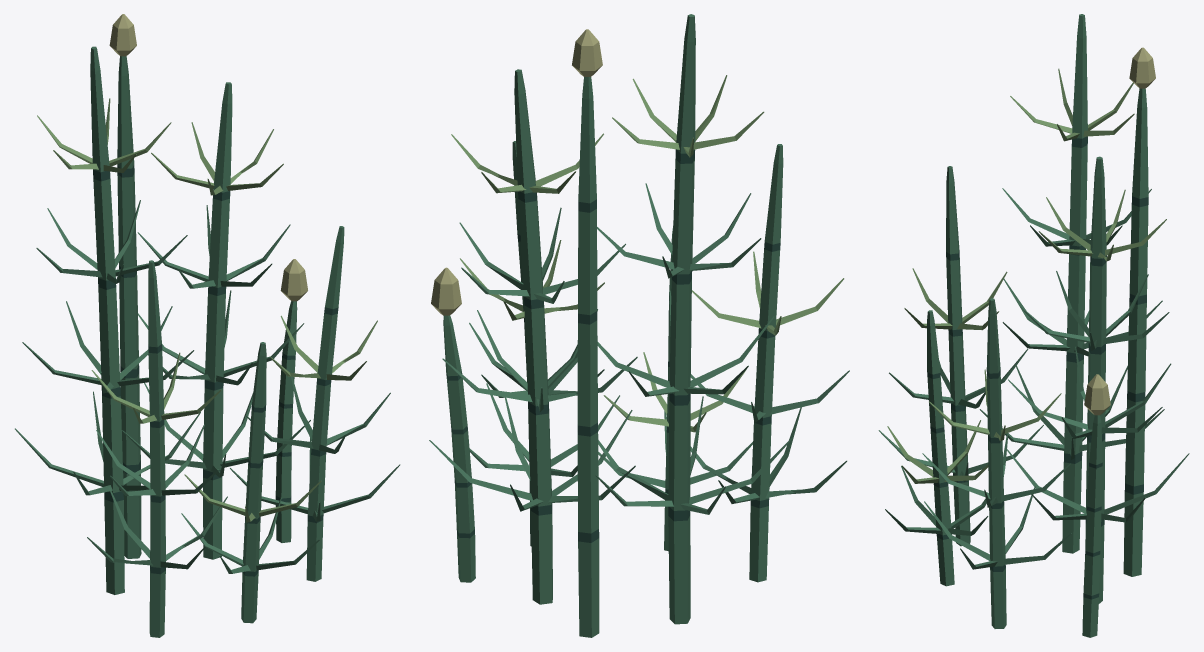
Rendered from horsetail-cluster.glb.
3 renders of one model, left to right at view 1: azimuth 30°, elevation 25°; view 2: azimuth 150°, elevation 25°; view 3: azimuth 270°, elevation 25°, orthographic. The views are drawn at different scales.
Parts seen in each view (by area): view 1: Seven jointed upright stems with dark node sheaths, Lower open whorls of slender branches, Younger upper whorls, Two quiet terminal spore cones; view 2: Seven jointed upright stems with dark node sheaths, Lower open whorls of slender branches, Younger upper whorls, Two quiet terminal spore cones; view 3: Seven jointed upright stems with dark node sheaths, Lower open whorls of slender branches, Younger upper whorls, Two quiet terminal spore cones.
Boxes of the visible parts, x1,y1,x2,y2 form: Seven jointed upright stems with dark node sheaths: [90, 46, 344, 637]; Lower open whorls of slender branches: [15, 200, 400, 573]; Younger upper whorls: [37, 98, 377, 522]; Two quiet terminal spore cones: [109, 14, 307, 301]; Seven jointed upright stems with dark node sheaths: [443, 14, 783, 637]; Lower open whorls of slender branches: [429, 183, 849, 514]; Younger upper whorls: [451, 75, 844, 432]; Two quiet terminal spore cones: [431, 29, 602, 315]; Seven jointed upright stems with dark node sheaths: [927, 14, 1148, 637]; Lower open whorls of slender branches: [878, 188, 1189, 569]; Younger upper whorls: [887, 68, 1166, 483]; Two quiet terminal spore cones: [1084, 47, 1155, 415].
Size of the model in its own units: 0.9113 by 1.48 by 0.7916.
